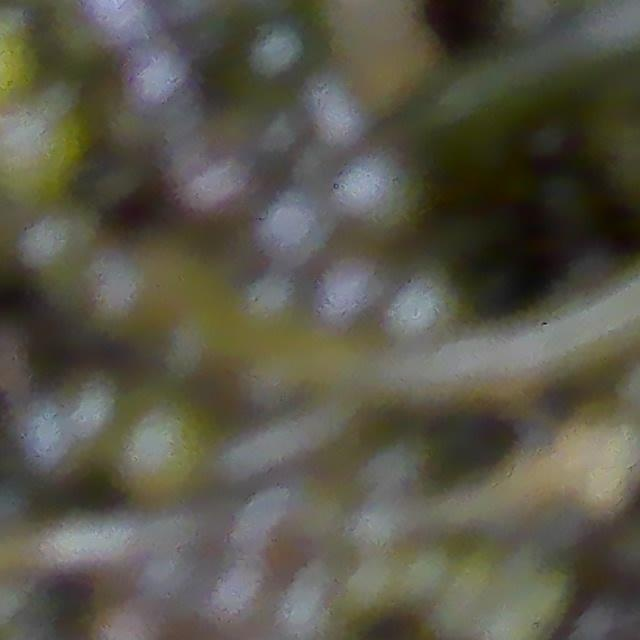SeaGrape: (114, 400, 209, 496), (335, 155, 423, 238), (256, 196, 338, 272), (534, 171, 594, 231), (391, 278, 450, 336)
